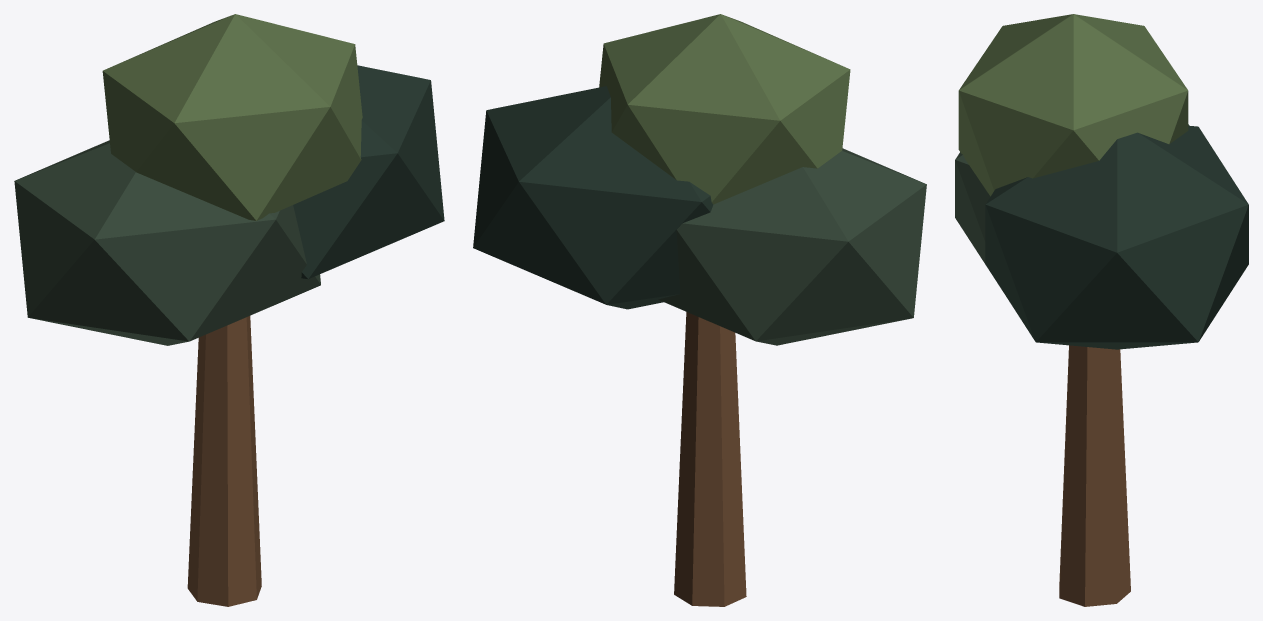
The model's file is tree.glb.
3 renders of one model, left to right at view 1: azimuth 30°, elevation 25°; view 2: azimuth 150°, elevation 25°; view 3: azimuth 270°, elevation 25°, orthographic. The views are drawn at different scales.
Parts seen in each view (by area): view 1: separate olive canopy, separate olive canopy.002, separate olive canopy.001, olive trunk; view 2: separate olive canopy, separate olive canopy.001, separate olive canopy.002, olive trunk; view 3: separate olive canopy.001, separate olive canopy.002, olive trunk, separate olive canopy.
Part boxes in pixels (x1,y1,x2,y2): separate olive canopy: [14, 140, 320, 345]; separate olive canopy.002: [102, 14, 362, 220]; separate olive canopy.001: [293, 65, 444, 279]; olive trunk: [187, 316, 261, 606]; separate olive canopy: [658, 148, 926, 345]; separate olive canopy.001: [473, 86, 713, 309]; separate olive canopy.002: [599, 14, 850, 204]; olive trunk: [674, 312, 746, 606]; separate olive canopy.001: [985, 125, 1248, 349]; separate olive canopy.002: [958, 14, 1188, 196]; olive trunk: [1059, 345, 1130, 606]; separate olive canopy: [955, 124, 1189, 270].
Bounding box in the file's own units: 2.42 × 3.21 × 1.48.
